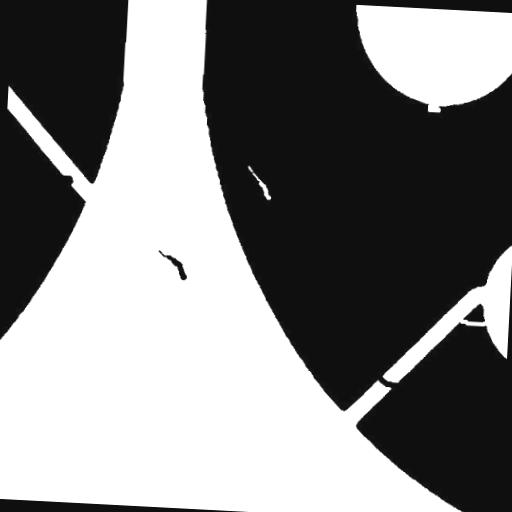copper: (149, 242, 196, 288)
mousebite: (420, 94, 448, 120)
open: (448, 310, 498, 334)
pin-hole: (238, 158, 280, 208)
short: (362, 363, 408, 396)
spur: (52, 167, 80, 192)
